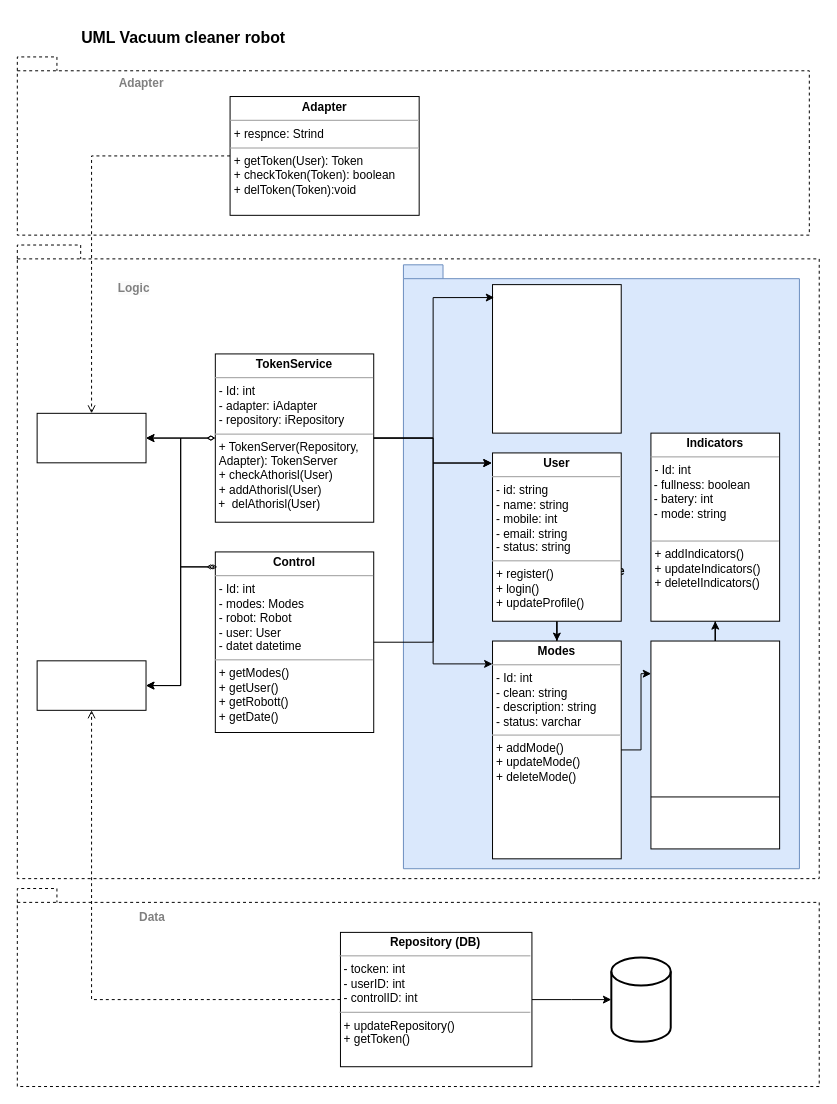
Image size: 837x1104. Some labels were removed from this diagram. The centre of each missing label's shape, as x and y in pixels:
Robot - Id: int - name: string - serial: int - driverVer: decim: (x=715, y=744)
Token - Id: int - token: varchar + getToken() + setToken() + deleteToken(): (x=556, y=358)
«interface» IAdapter: (x=91, y=437)
«interface» IRepository: (x=91, y=685)
